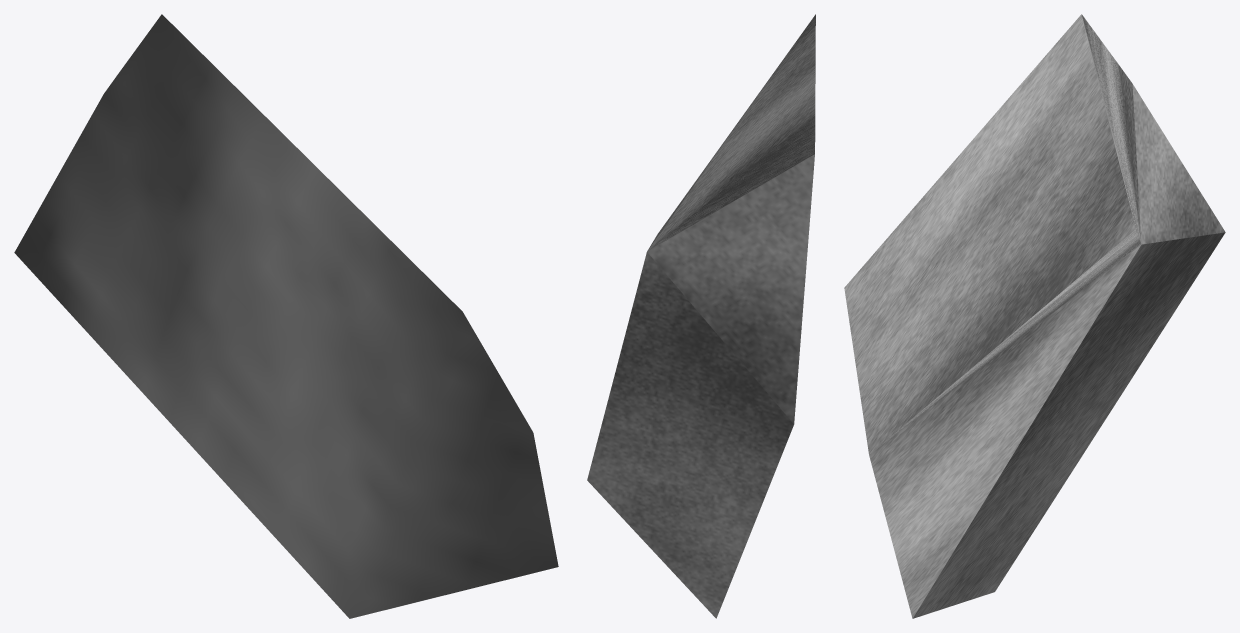
File: body_cell_071.fbx
3 renders of one model, left to right at view 1: azimuth 30°, elevation 25°; view 2: azimuth 150°, elevation 25°; view 3: azimuth 270°, elevation 25°, orthographic. The views are drawn at different scales.
Visible parts, largest first — view 1: body_cell.071; view 2: body_cell.071; view 3: body_cell.071.
Part boxes in pixels (box(x1,y1,x2,y2)): body_cell.071: box(14, 14, 558, 618); body_cell.071: box(587, 14, 815, 618); body_cell.071: box(844, 14, 1225, 618).
Bounding box in the file's own units: 11.45 × 18.13 × 12.05.
